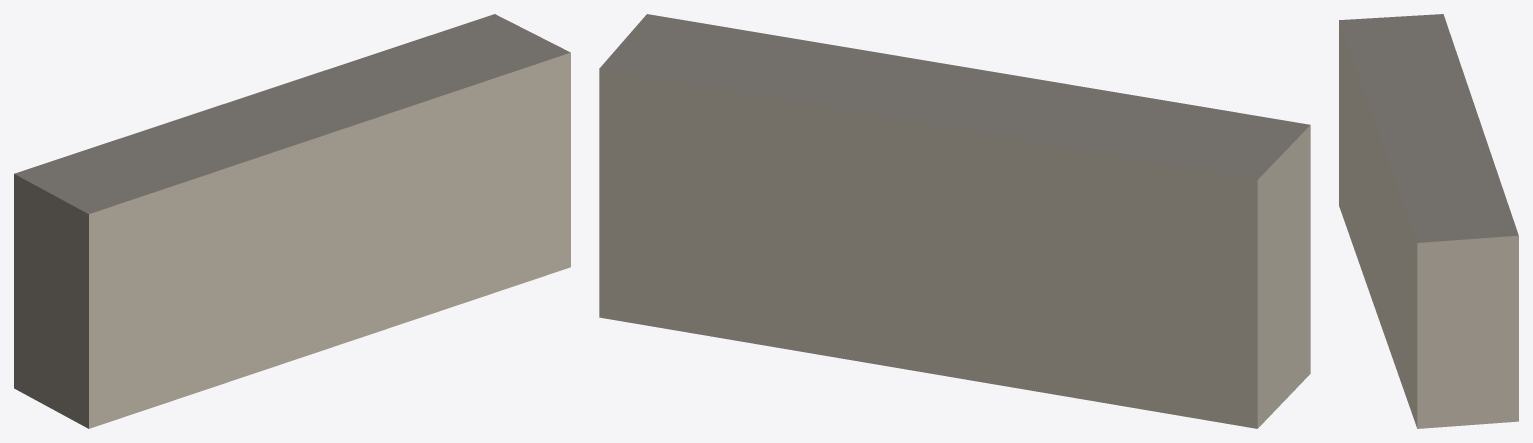
The picture shows the model from 3 angles, left to right: view 1: azimuth 30°, elevation 25°; view 2: azimuth 150°, elevation 25°; view 3: azimuth 270°, elevation 25°; orthographic projection. The views are drawn at different scales.
Visible parts, largest first — view 1: HP-w1070642154; view 2: HP-w1070642154; view 3: HP-w1070642154.
Boxes of the visible parts, x1,y1,x2,y2 form: HP-w1070642154: (14, 14, 570, 428); HP-w1070642154: (599, 14, 1310, 428); HP-w1070642154: (1339, 14, 1518, 428).
Size of the model in its own units: 47.54 by 18 by 15.77.
